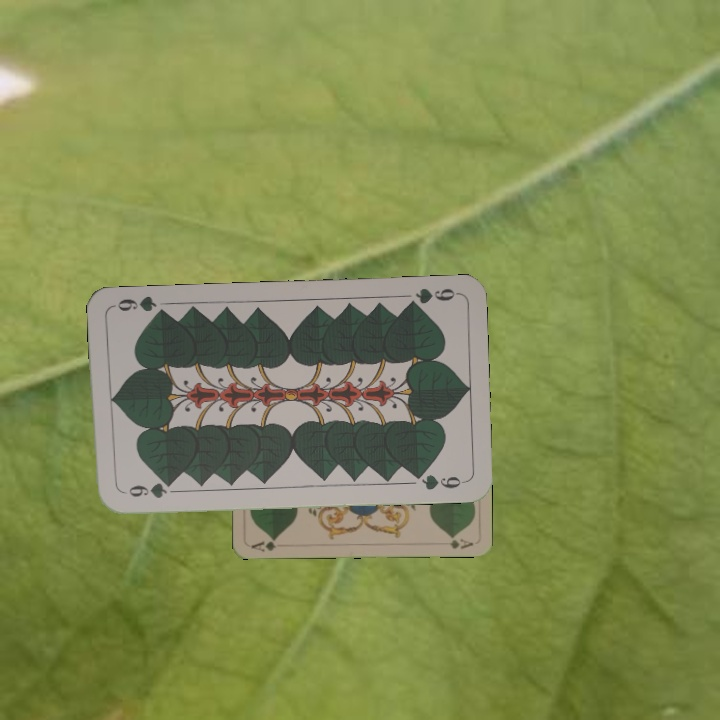G9: (401, 284, 460, 310), (118, 478, 177, 501)
GA: (247, 534, 278, 554)
